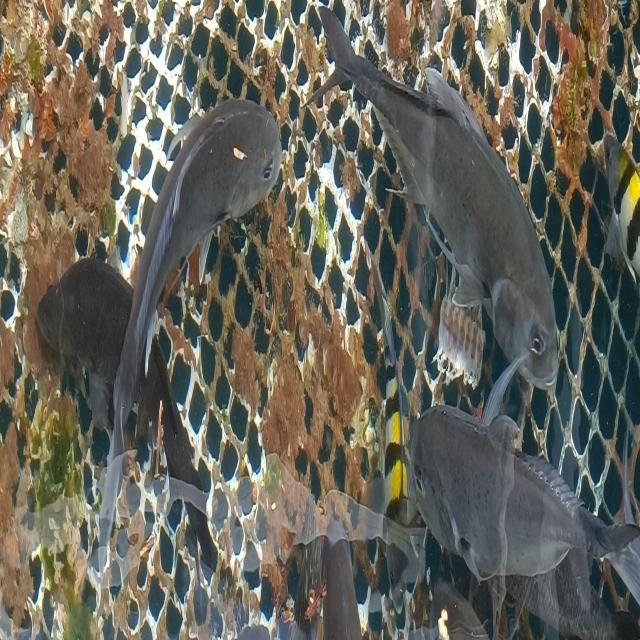ikan: (37, 94, 283, 581), (306, 2, 560, 414), (406, 366, 639, 636), (602, 128, 639, 284)
